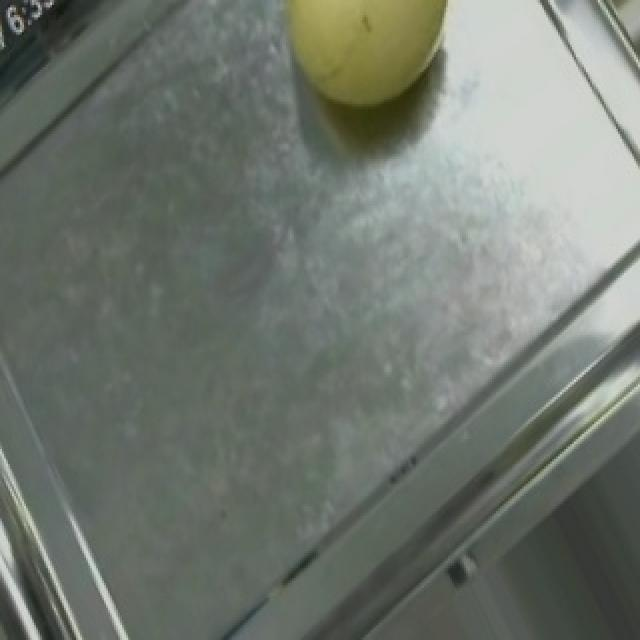Fruit: (240, 2, 488, 144)
